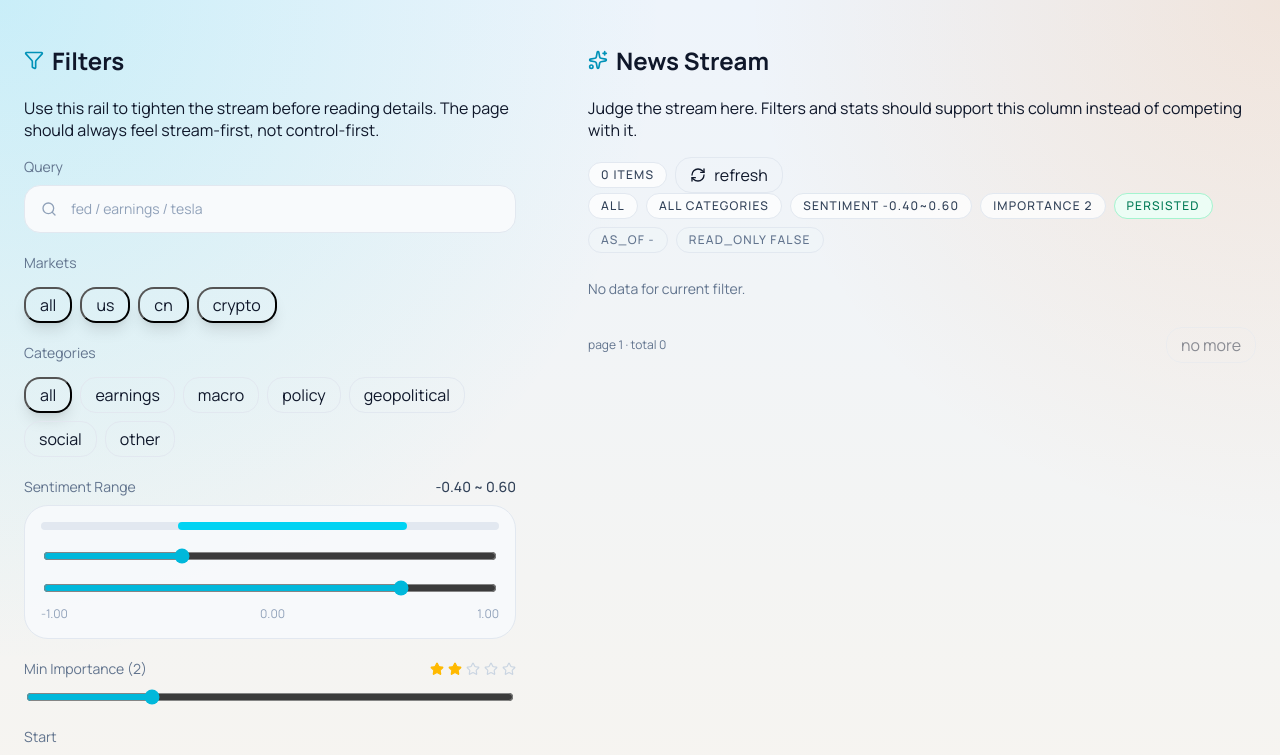
NewsCenterPage › tracks the refresh task instead of implying the stream is already updated
This screenshot has width=1280, height=755.
Click the button "refresh".
click(729, 175)  # box [675,157,783,193]
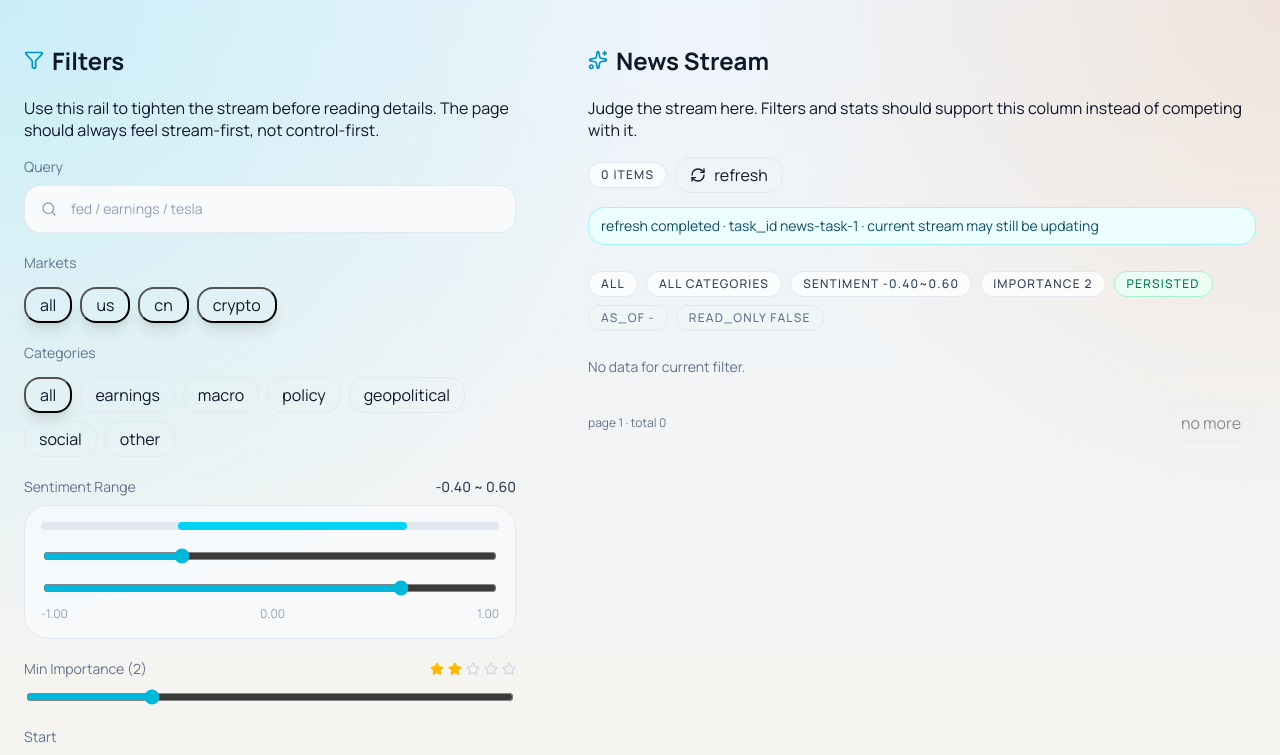
Now the text "current stream may still be updating" is shown, box [858,216,1099,235]
